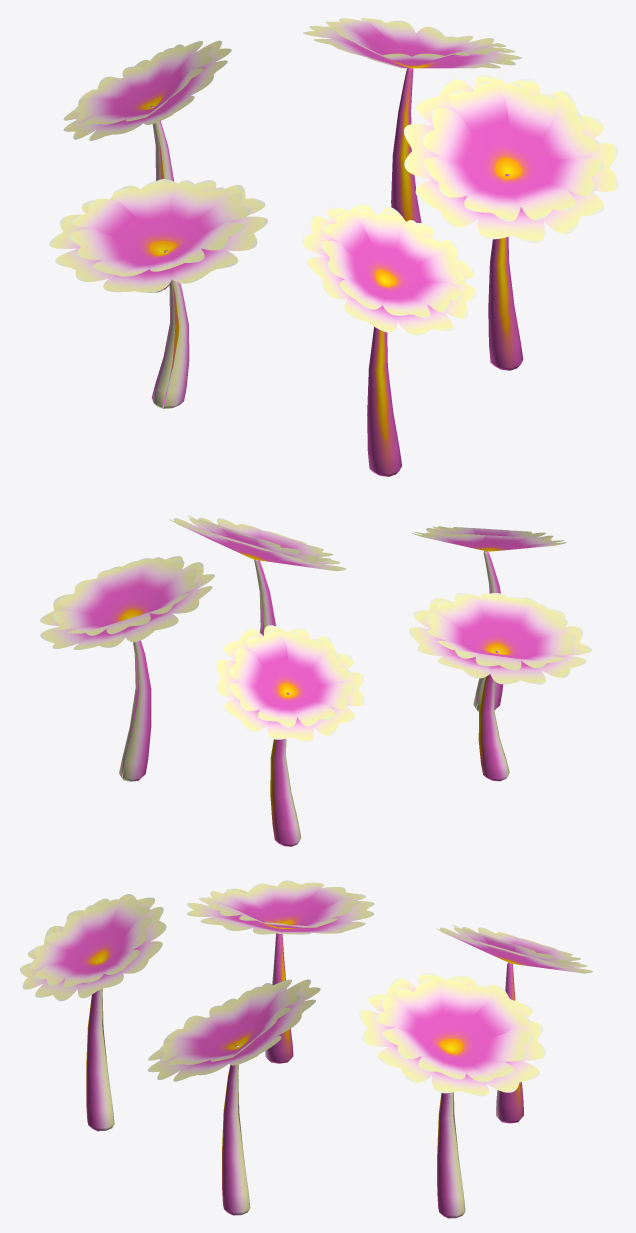
File: Flowers1Model.fbx
The picture shows the model from 3 angles, top to bottom: view 1: azimuth 30°, elevation 25°; view 2: azimuth 150°, elevation 25°; view 3: azimuth 270°, elevation 25°; orthographic projection. The views are drawn at different scales.
Parts seen in each view (by area): view 1: Cube.006, Cube, Cube.005, Cube.002, Cube.003; view 2: Cube.002, Cube, Cube.003, Cube.006, Cube.005; view 3: Cube.003, Cube.005, Cube.006, Cube, Cube.002.
Boxes of the visible parts, bbox=[...] form: Cube.006: bbox=[404, 74, 618, 370]; Cube: bbox=[49, 179, 267, 408]; Cube.005: bbox=[301, 203, 476, 476]; Cube.002: bbox=[63, 40, 231, 292]; Cube.003: bbox=[303, 18, 521, 222]; Cube.002: bbox=[215, 625, 364, 846]; Cube: bbox=[409, 593, 591, 781]; Cube.003: bbox=[40, 556, 214, 781]; Cube.006: bbox=[168, 515, 345, 635]; Cube.005: bbox=[412, 526, 566, 711]; Cube.003: bbox=[359, 972, 545, 1218]; Cube.005: bbox=[20, 894, 166, 1131]; Cube.006: bbox=[147, 979, 320, 1215]; Cube: bbox=[187, 880, 374, 1063]; Cube.002: bbox=[436, 925, 592, 1123].
Size of the model in its own units: 588 by 271 by 647.
Materials: 1 (1 with a texture image).
